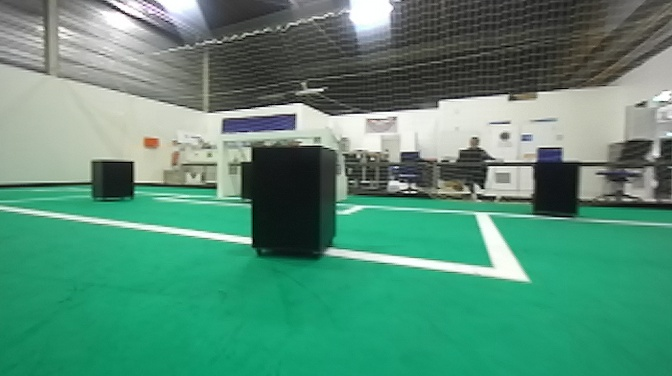goalpost: (214, 138, 232, 204)
